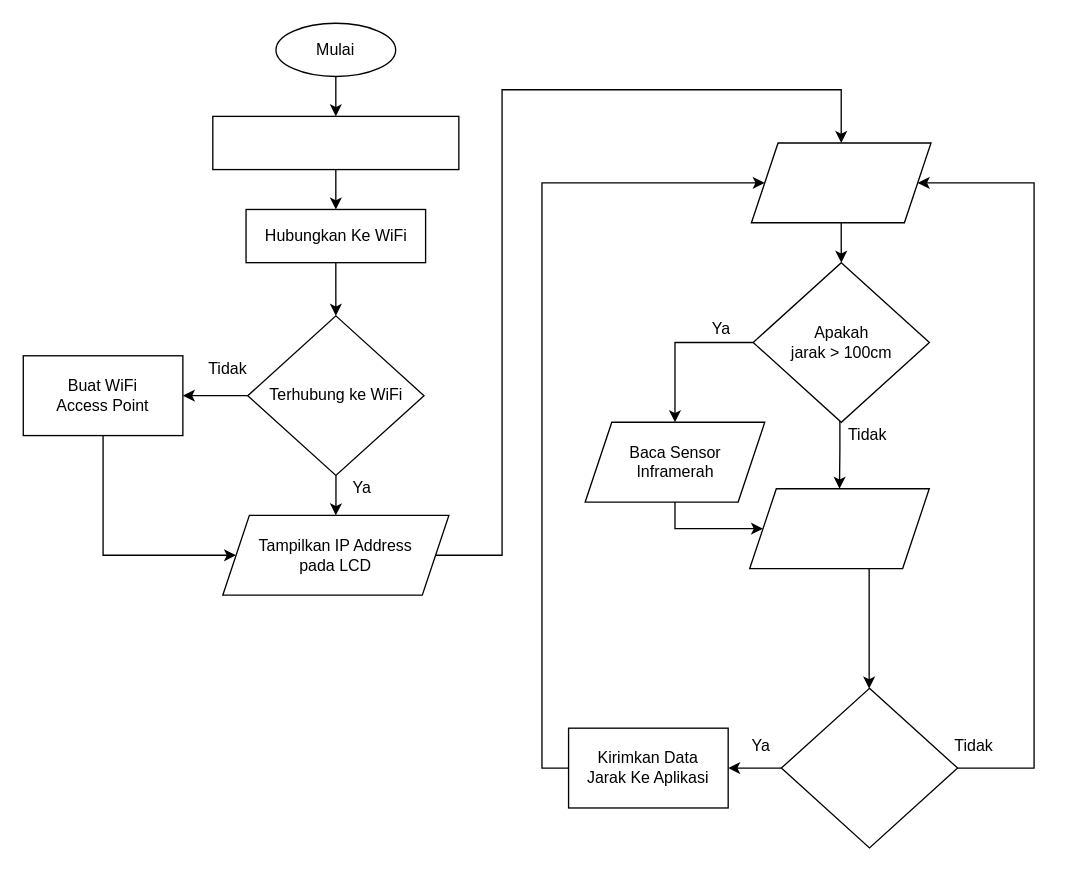
Image size: 1068x871. Some labels were removed from this diagram. The shapes that lost their labels are listed below. From the top down, each one's centre as x and y in pixels, then its label:
At pixel 335 142: "Inisialisasi Sensor dan LCD".
At pixel 840 182: "Baca Sensor Ultrasonik".
At pixel 838 528: "Tampilkan Jarak pada LCD".
At pixel 869 767: "Aplikasi meminta nilai jarak".
